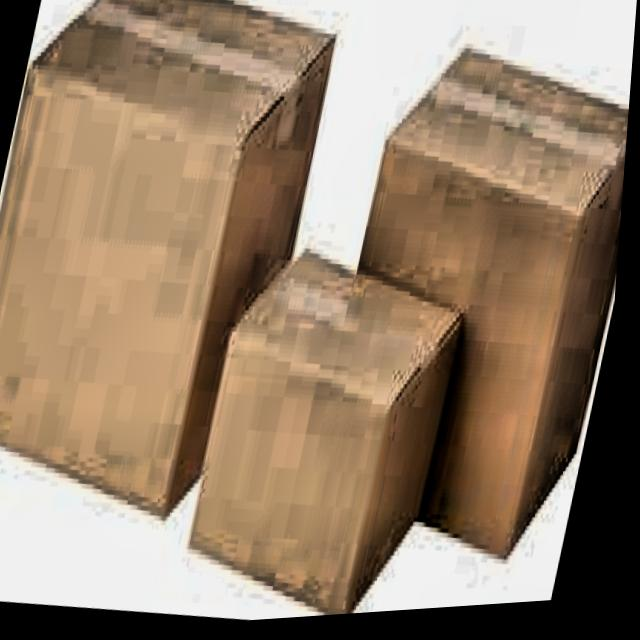Cardbox: (0, 0, 359, 584), (294, 19, 637, 595), (176, 203, 496, 629)
